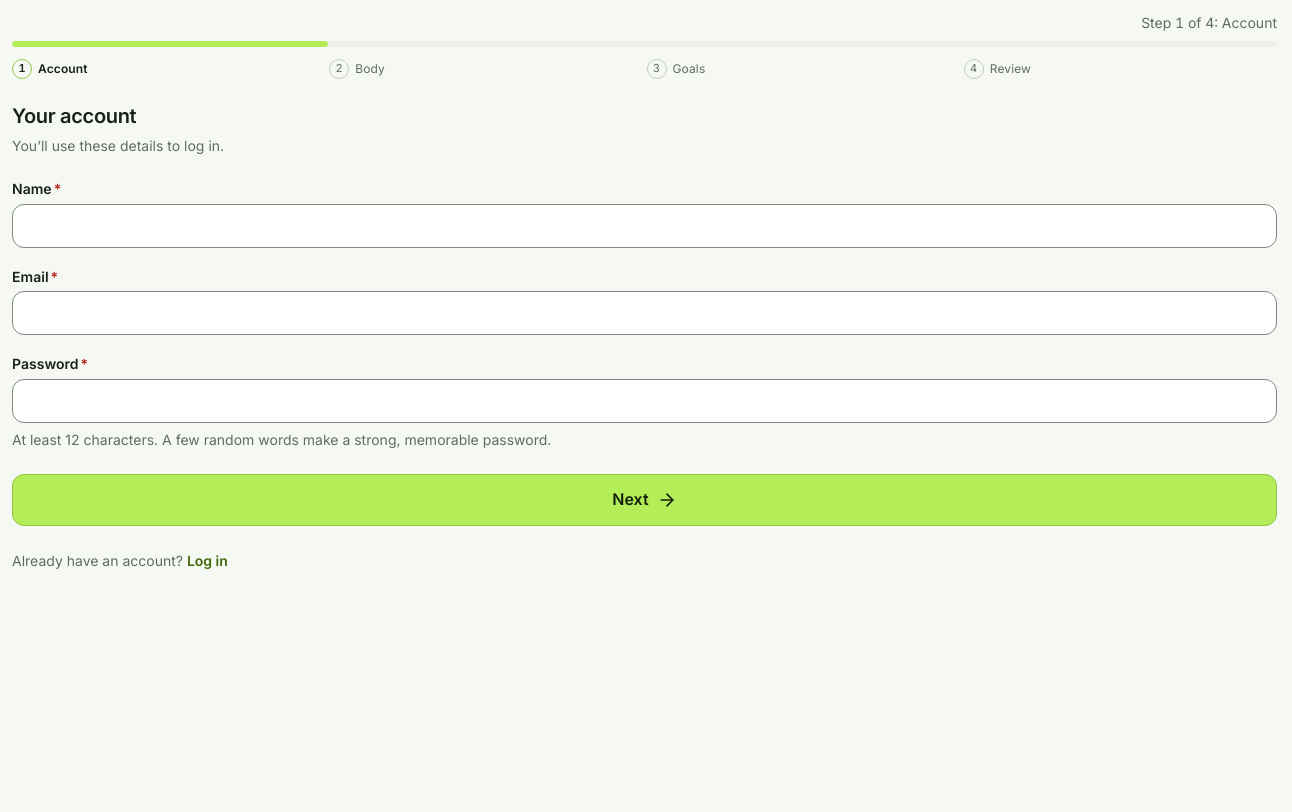
Test case: RegisterForm (multi-step registration with onboarding) › checks every account field like the server does before moving on (FIT-11 rules)
Type "not-an-email" into the field labelled "Email" at point(644, 313), box [12,291,1277,335]
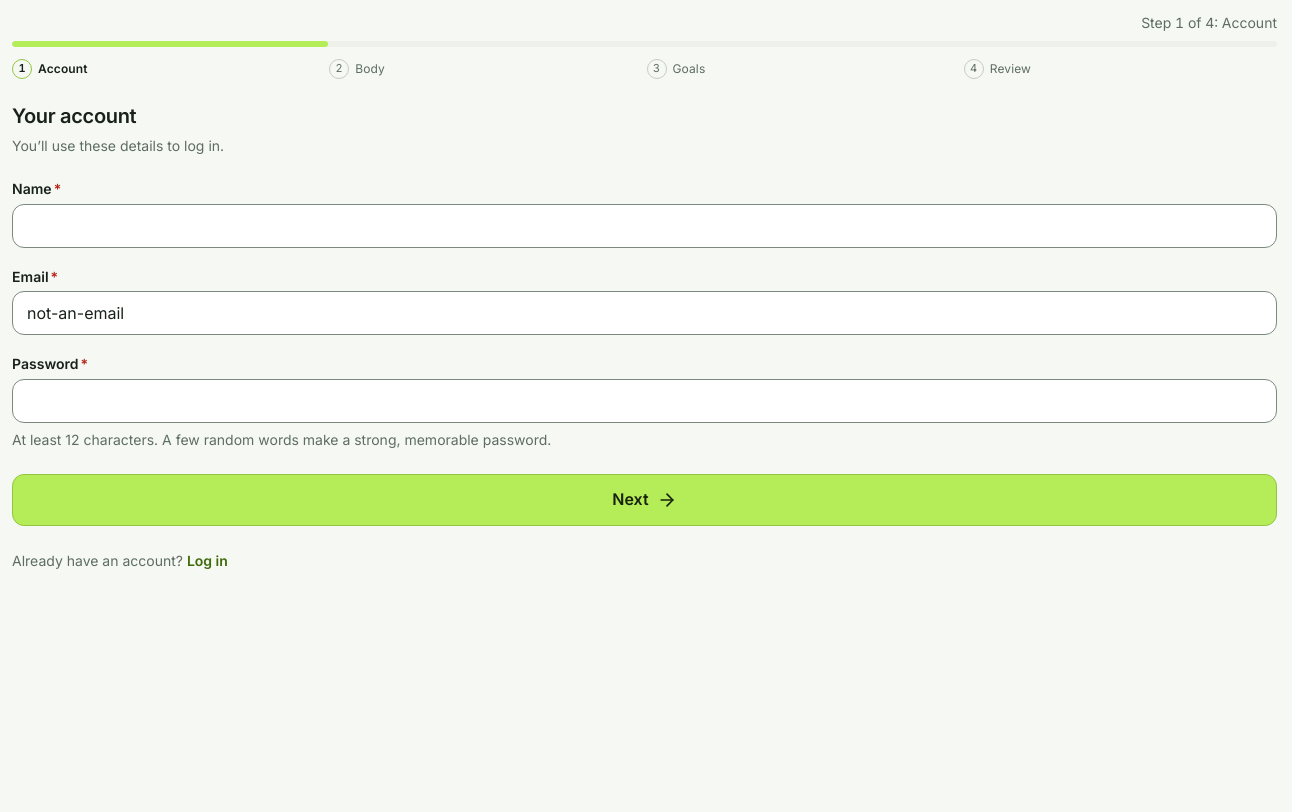
Type "short" into the password field labelled "Password" at point(644, 400), box [12,378,1277,422]
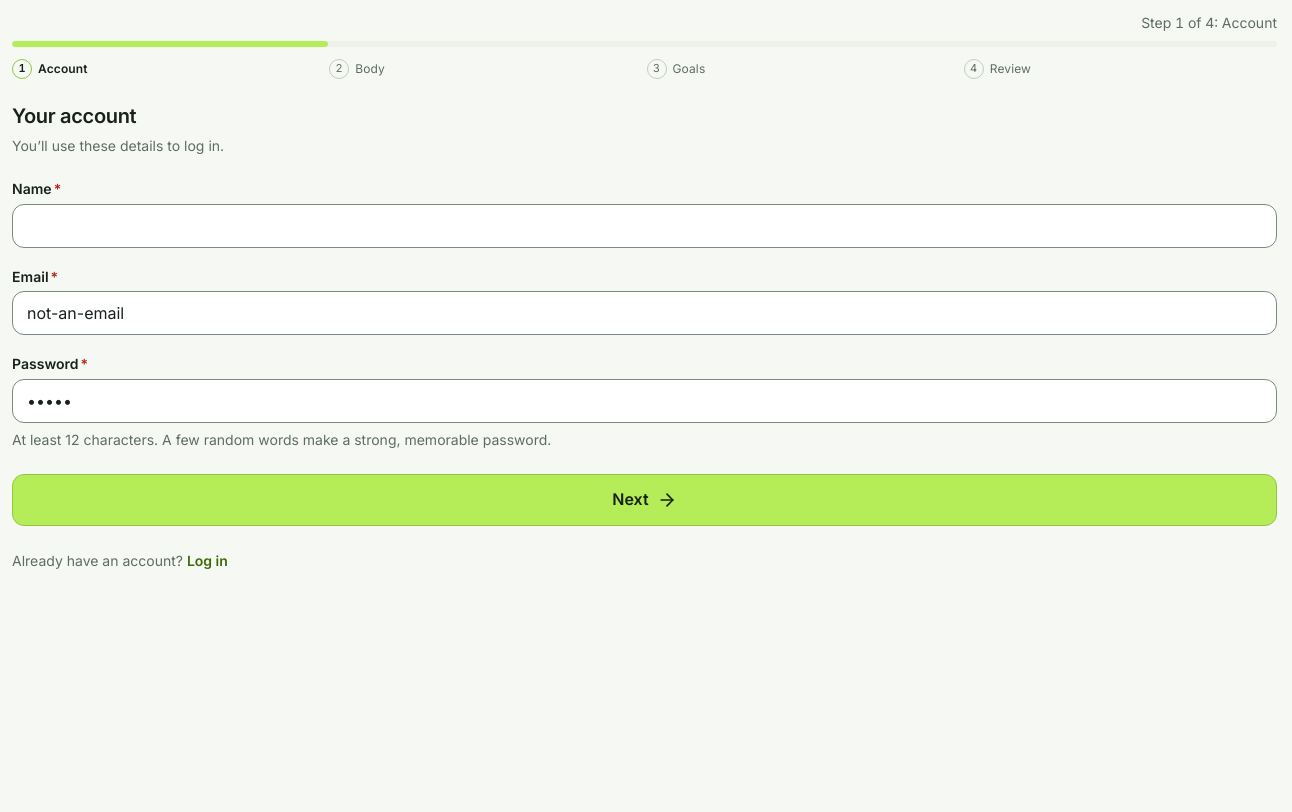
Click the button "Next" at point(644, 500), box [12,474,1277,526]
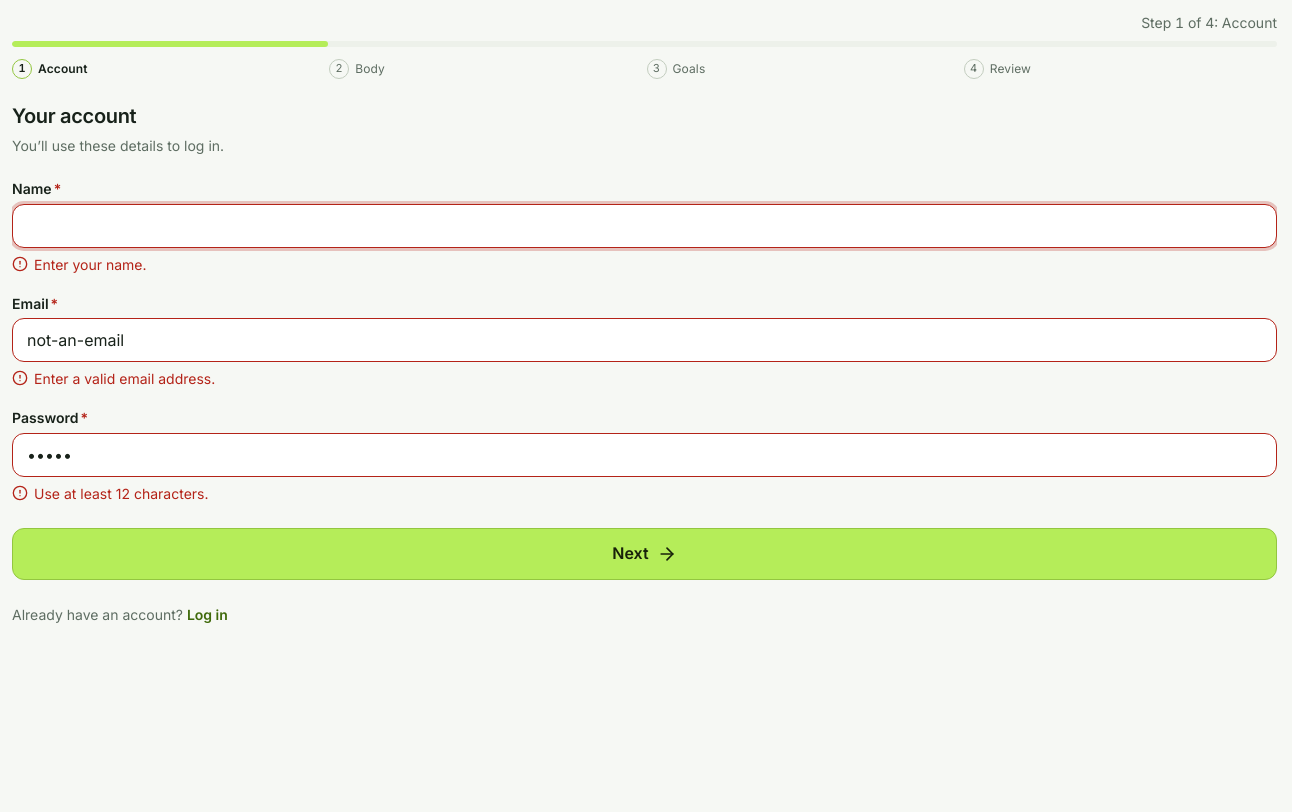
expect the text "Enter your name." is shown: met, box [34,254,147,274]
expect the text "Enter a valid email address." is shown: met, box [34,368,215,389]
expect the text "Use at least 12 characters." is shown: met, box [34,482,208,504]
